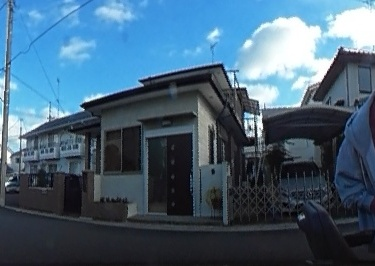person: (351, 35, 375, 254)
